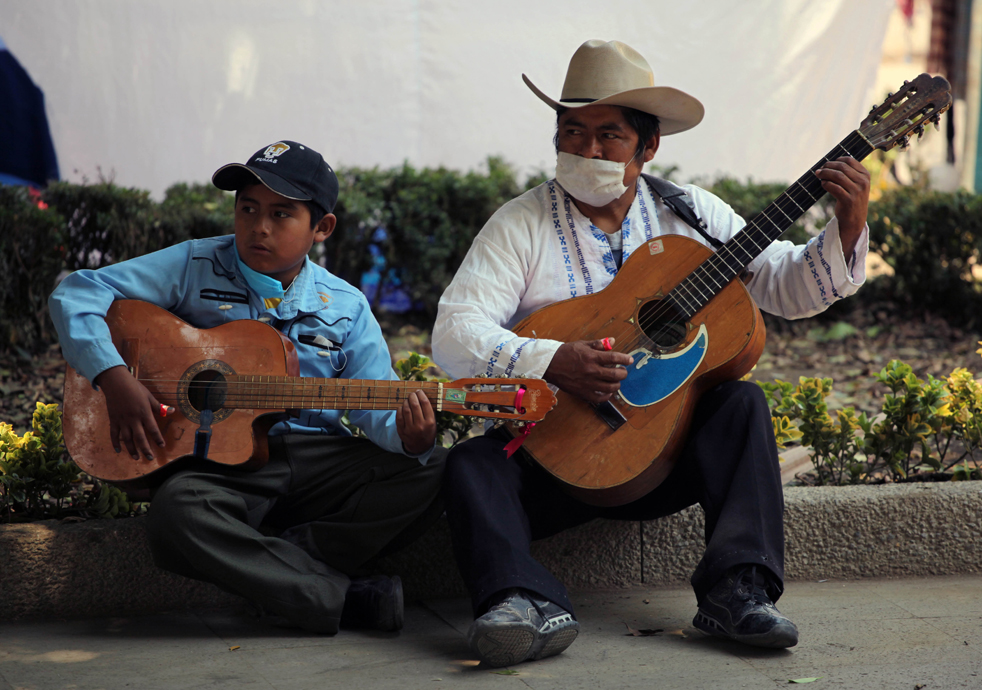mask_weared_incorrect: (549, 103, 653, 207), (235, 181, 326, 286)
